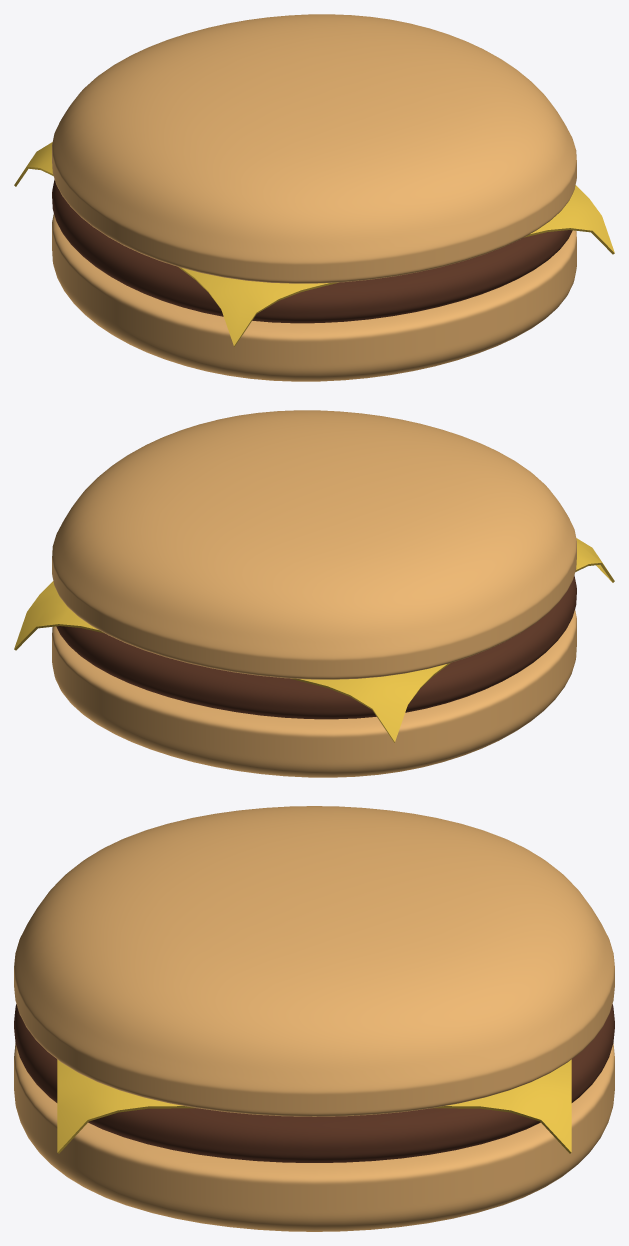
Rendered from hamburger.glb.
3 renders of one model, top to bottom at view 1: azimuth 30°, elevation 25°; view 2: azimuth 150°, elevation 25°; view 3: azimuth 270°, elevation 25°, orthographic. The views are drawn at different scales.
Visible parts, largest first — view 1: Top Bun, Bottom Bun, Meat, Cheese; view 2: Top Bun, Bottom Bun, Meat, Cheese; view 3: Top Bun, Bottom Bun, Meat, Cheese.
Part boxes in pixels (x1,y1,x2,y2): Top Bun: (52,14,576,283); Bottom Bun: (52,213,576,381); Meat: (52,179,572,323); Cheese: (14,142,614,346); Top Bun: (52,410,576,679); Bottom Bun: (52,609,576,777); Meat: (56,575,576,719); Cheese: (14,538,614,742); Top Bun: (14,806,614,1116); Bottom Bun: (14,1043,614,1231); Meat: (14,1004,614,1162); Cheese: (57,1059,571,1153).
Size of the model in its own units: 9.5 by 4.49 by 9.5.
